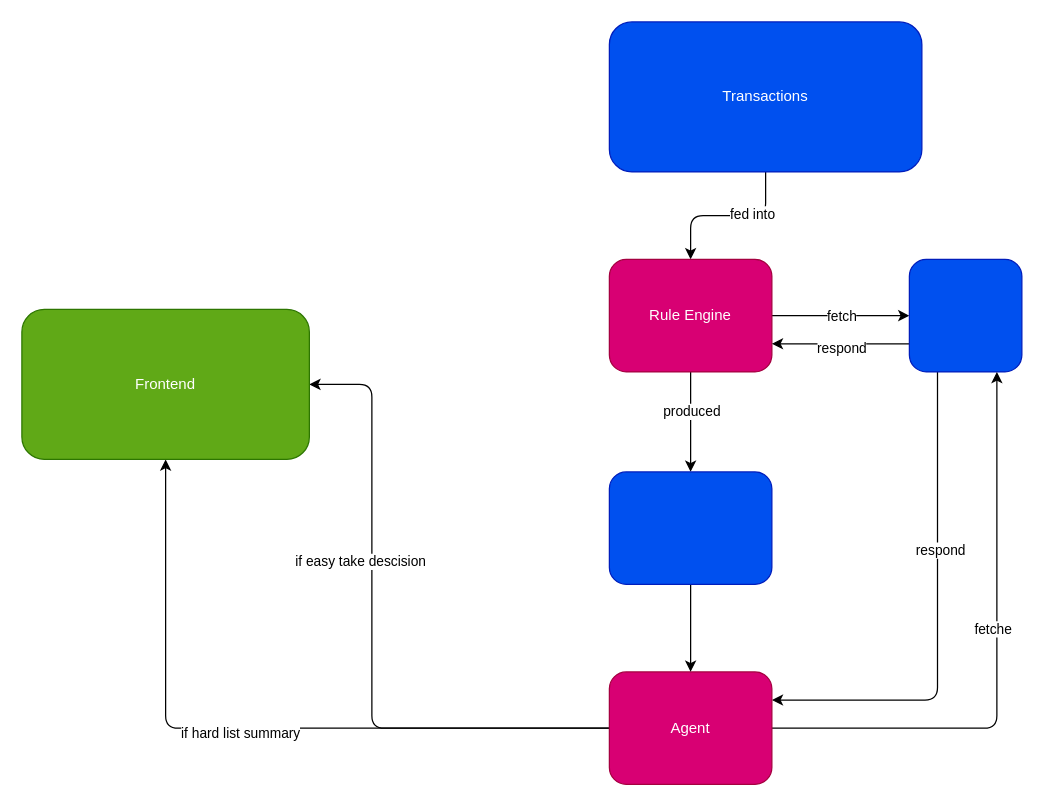
This 1044x806 diagram has some shape labels left out. Each missing label, with the centre of its shape:
"Alerts" goes at pixel 690 527.
"Feature Store" goes at pixel 965 315.
